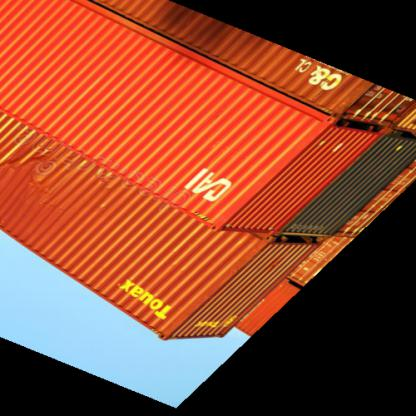Damage: (0, 156, 54, 236)
